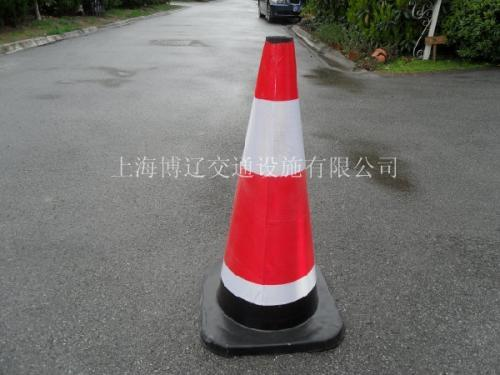cone_barrel: (204, 40, 333, 342)
